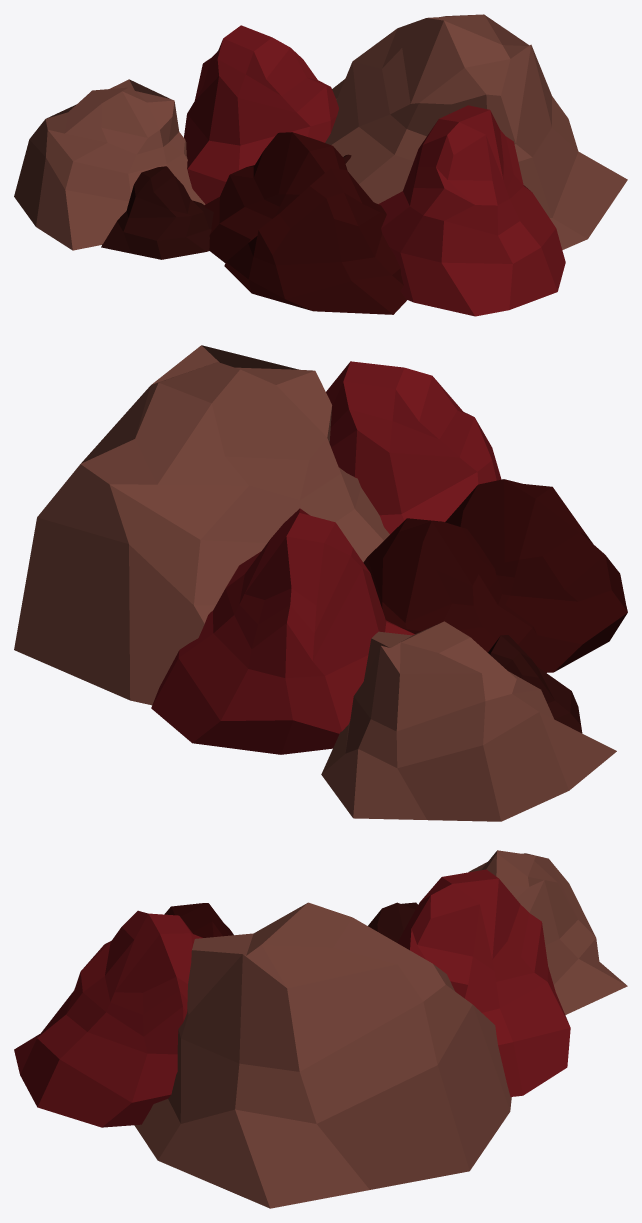
Rendered from base_montanias.fbx.
3 views of the same model, one above another, from view 1: azimuth 30°, elevation 25°; view 2: azimuth 150°, elevation 25°; view 3: azimuth 270°, elevation 25° (orthographic). The views are drawn at different scales.
Visible parts, largest first — view 1: Cube.007; view 2: Cube.007; view 3: Cube.007.
Part boxes in pixels (<box>): Cube.007: <box>14,14,627,316</box>; Cube.007: <box>14,345,627,821</box>; Cube.007: <box>14,850,627,1208</box>.
Bounding box in the file's own units: 21656 × 7879 × 20389.
